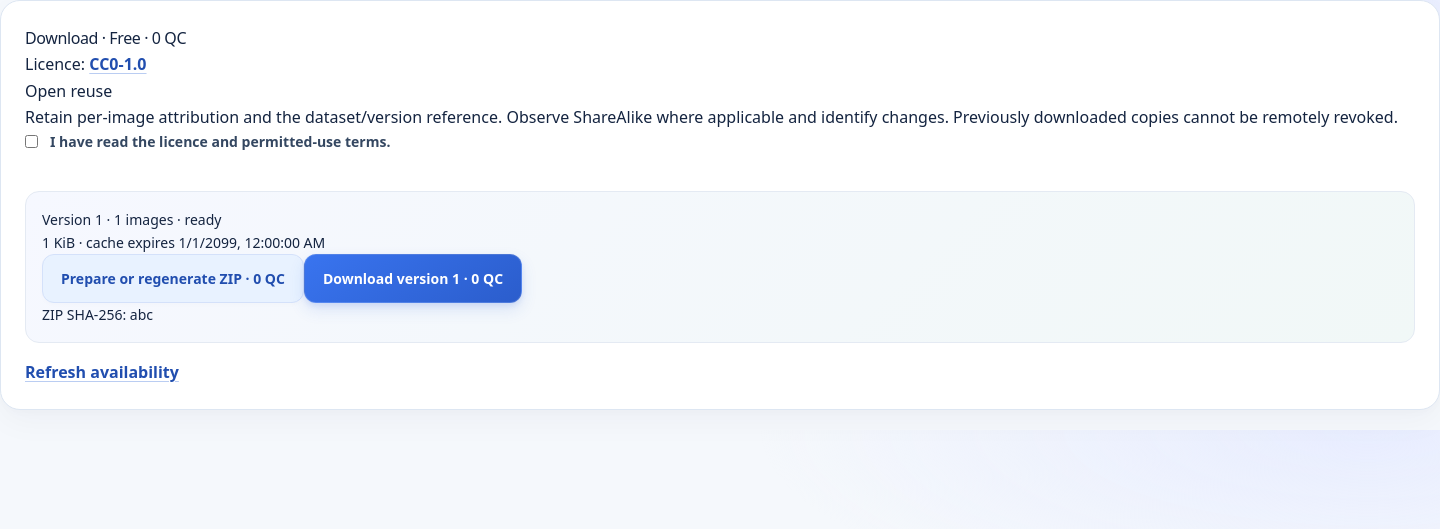
Test: reports backend preparation errors and allows retry
What coordinates should you click on to do the following:
click the checkbox
I would click on:
 (32, 141)
Its box is [25,135,38,148].
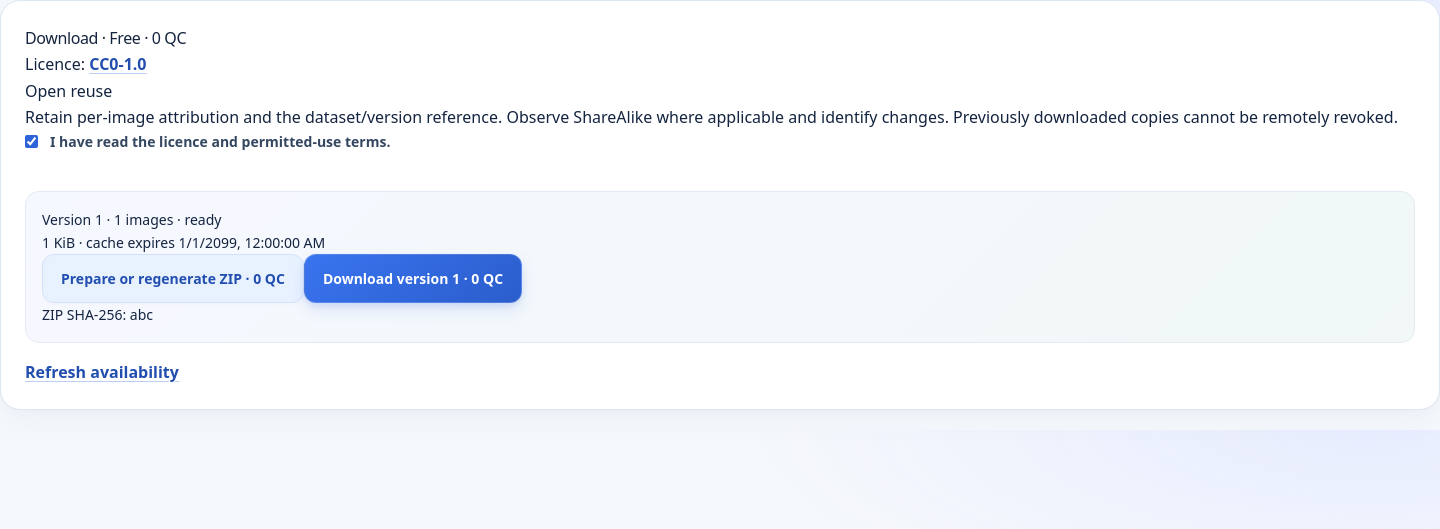
What coordinates should you click on to do the following:
click the button "Prepare or regenerate ZIP · 0 QC"
I would click on:
 (173, 278)
Its box is [42,254,304,303].
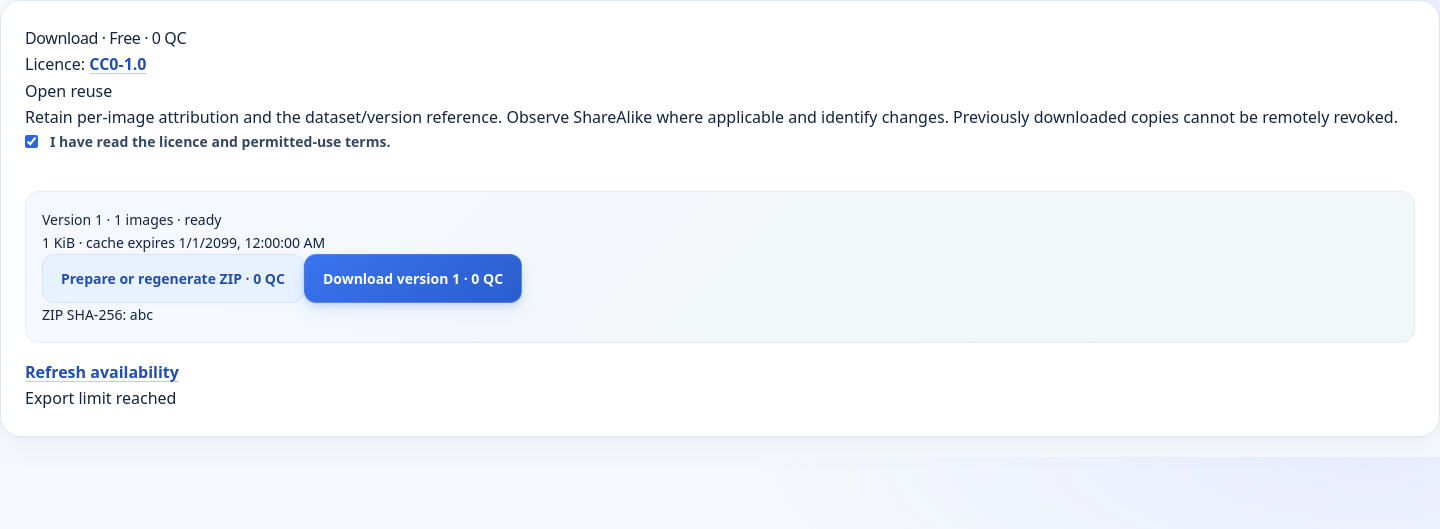
Check: the message shows "Export limit", box [25,387,176,409]
